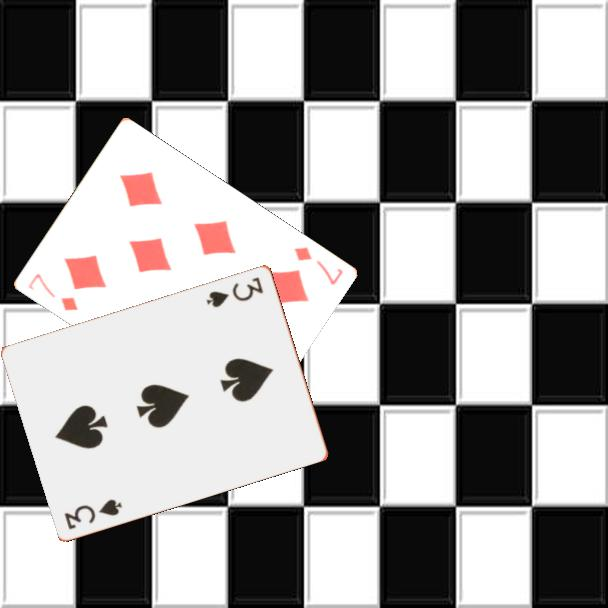d07: (290, 243, 346, 288), (24, 270, 80, 314)
s03: (61, 495, 125, 532), (203, 273, 266, 310)
